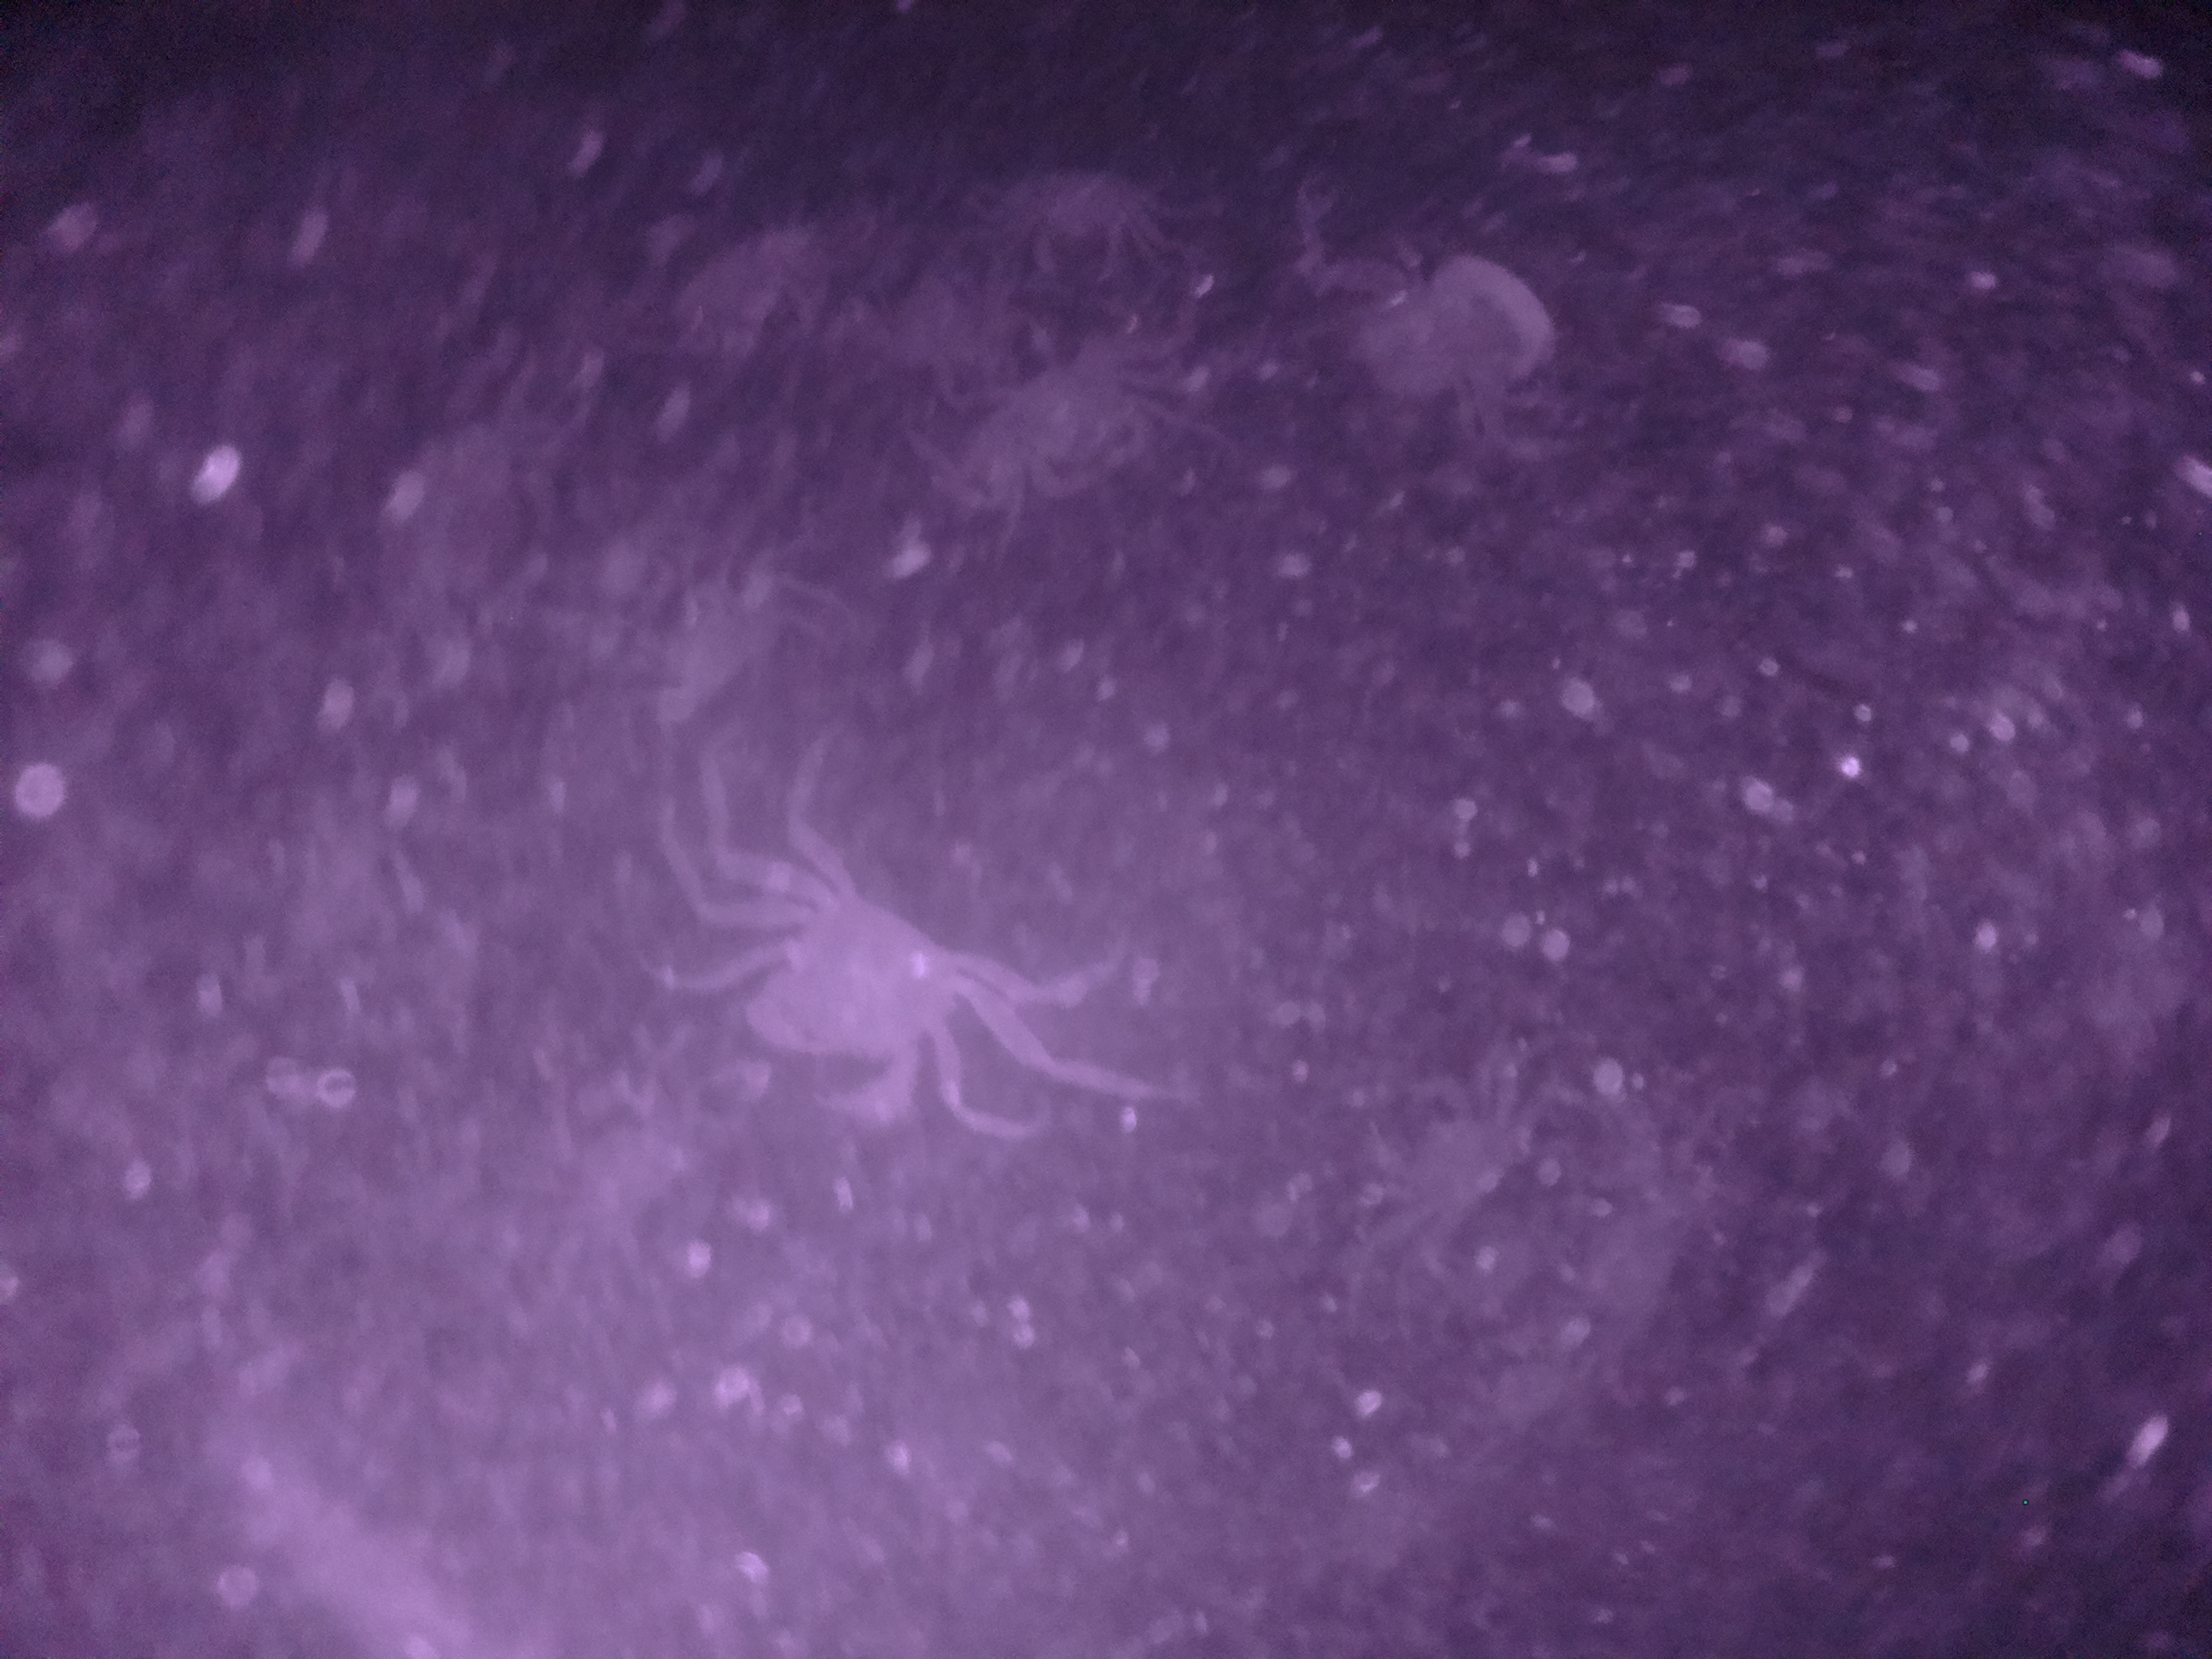Crab: (732, 829, 996, 1159), (1338, 1033, 1547, 1265), (944, 338, 1204, 511)
